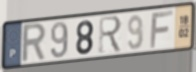8: (76, 20, 95, 56)
9: (50, 20, 69, 60), (127, 13, 146, 51)
F: (149, 9, 175, 50)
R: (20, 21, 48, 65), (98, 15, 123, 55)
